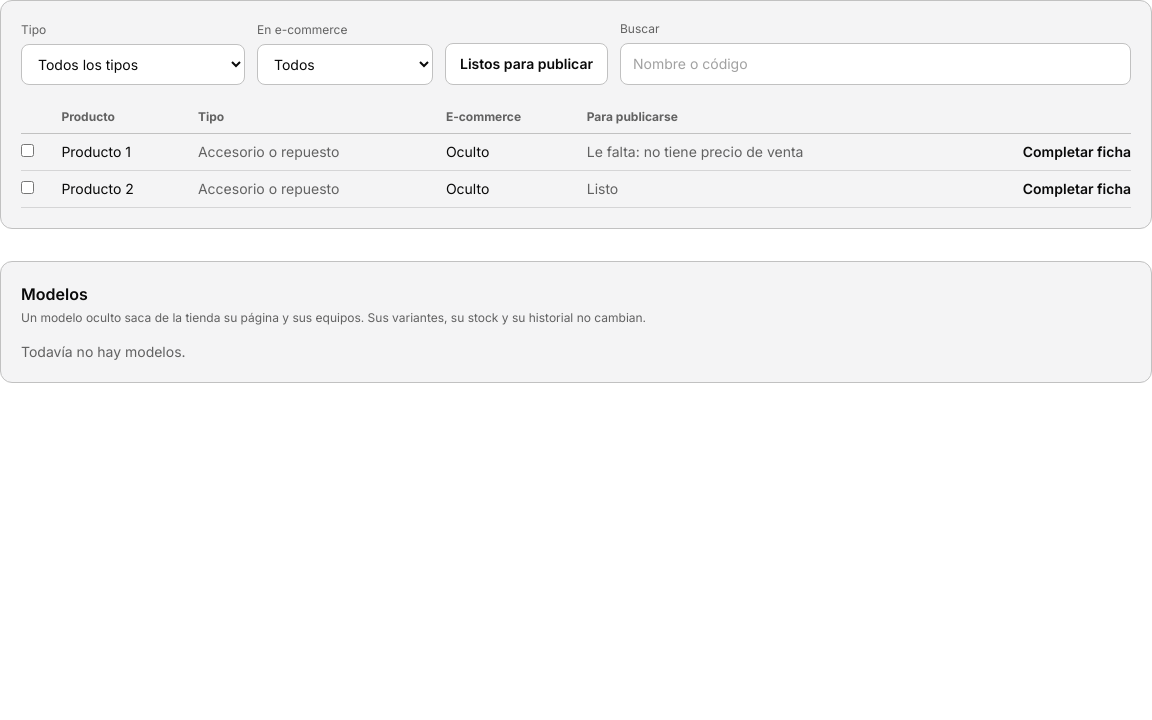
Test: Completar ficha — pendientes y editores › un producto sin precio lo pone primero y lo enfoca
Check: the table named "Productos y variantes" is shown, box x1=21 y1=101 x2=1131 y2=208
Click the button with aria-label "Completar ficha de Producto 1".
click(1077, 152)  # box x1=1023 y1=142 x2=1131 y2=162
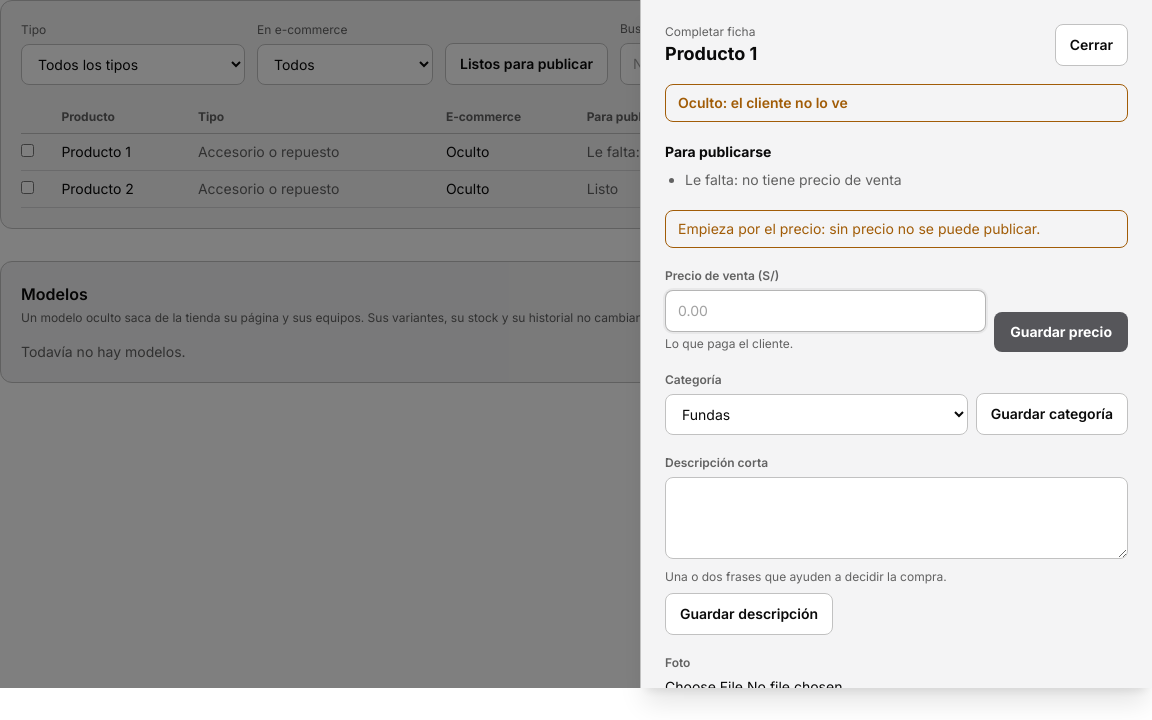
Check: the field labelled "Precio de venta (S/)" is shown, box x1=665 y1=290 x2=986 y2=332
Check: the list item "Le falta: no tiene precio de venta" is shown, box x1=685 y1=171 x2=902 y2=188
Check: the text "Empieza por el precio: sin precio no se puede publicar." is shown, box x1=665 y1=210 x2=1128 y2=248
